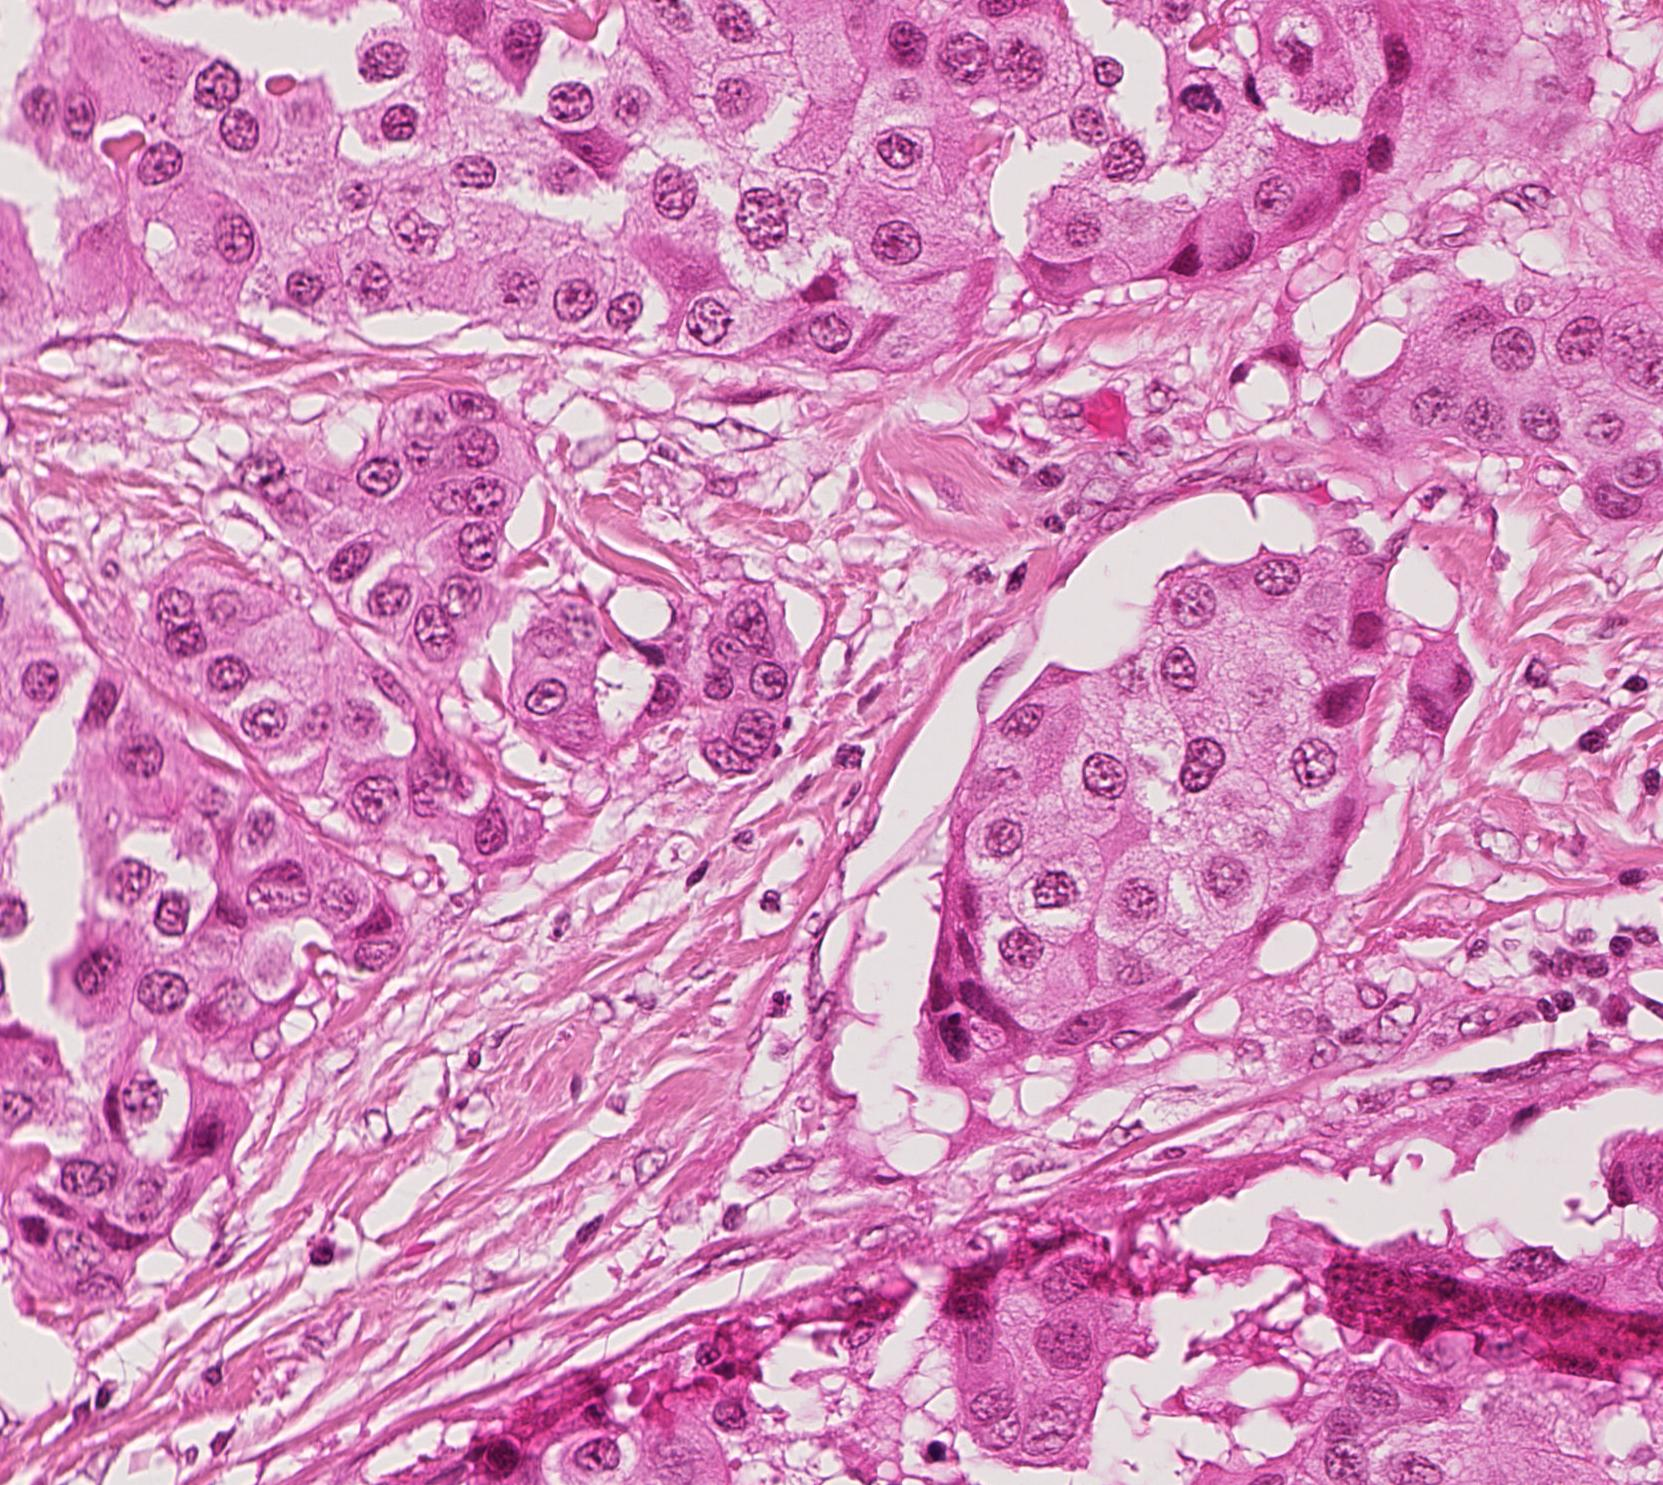mitosis: (1168, 59, 1229, 119)
